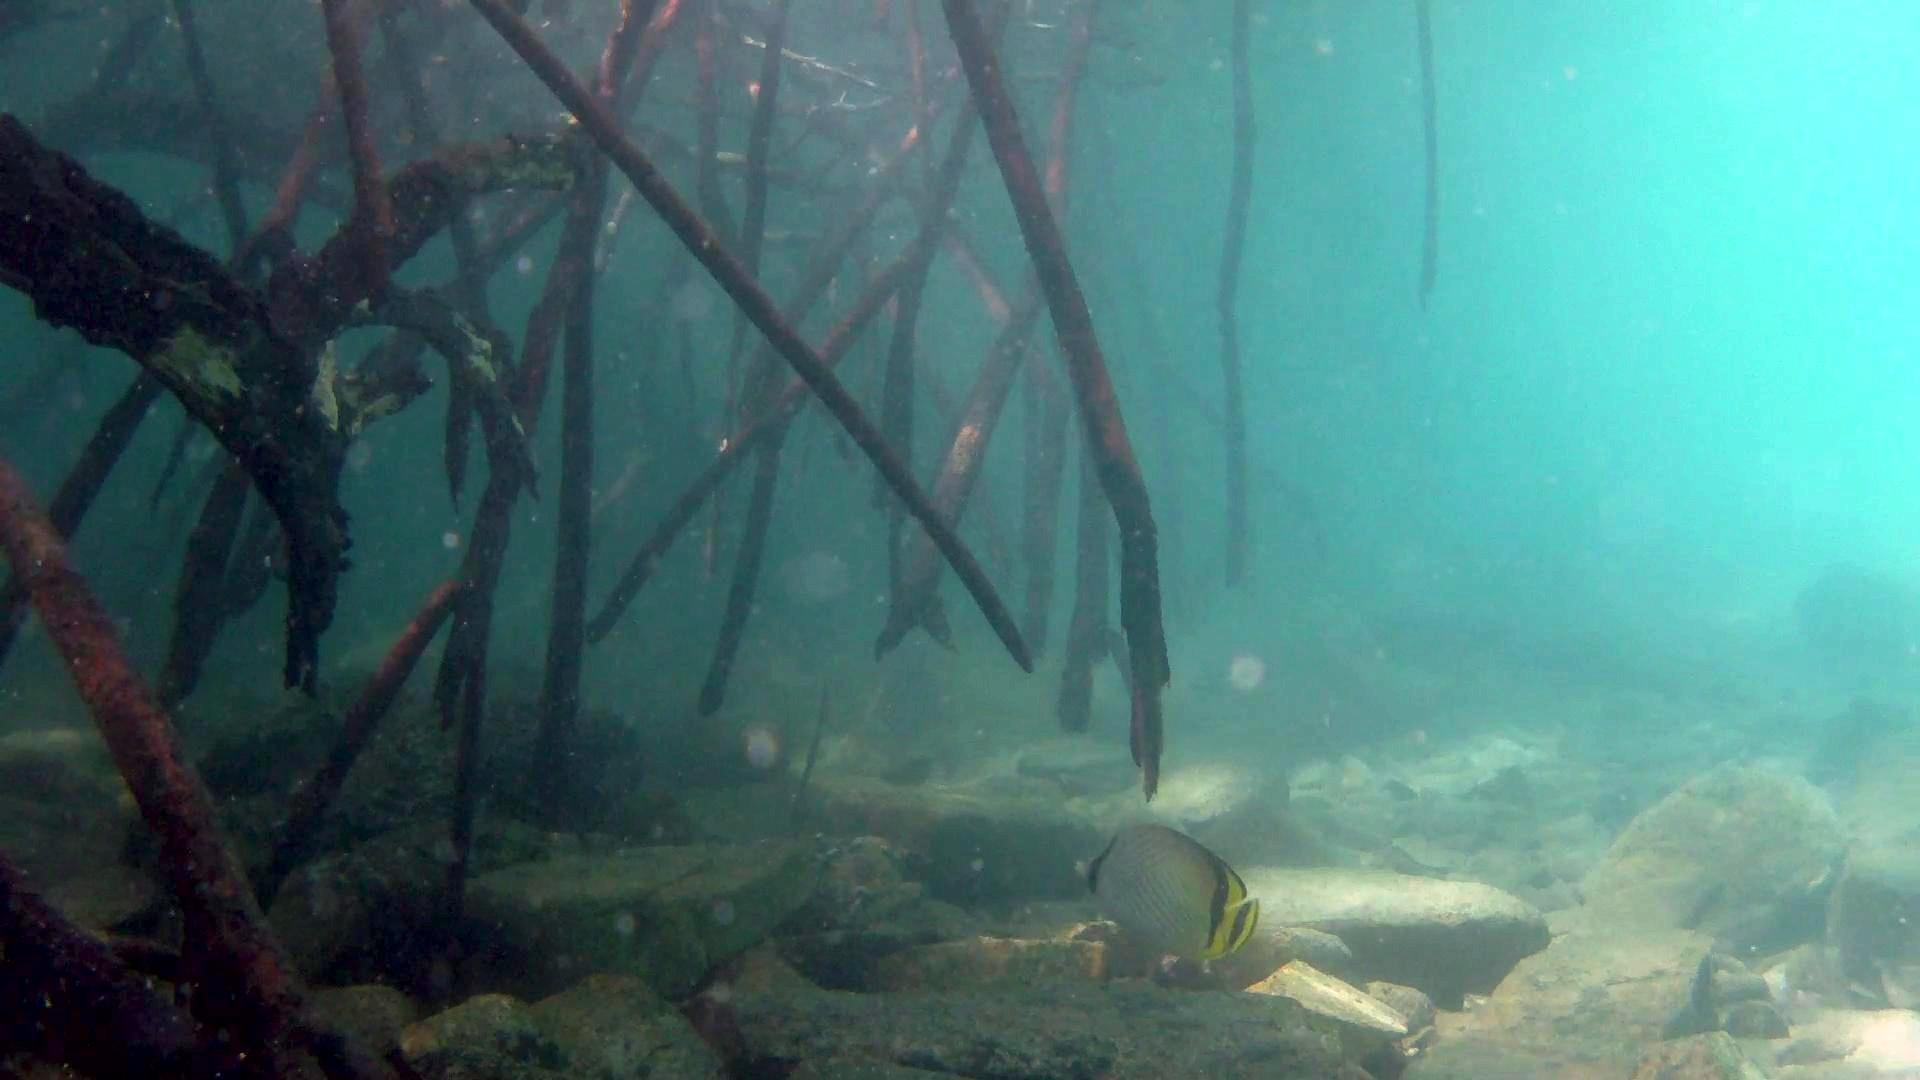chaetodon vagabundus: (1065, 822, 1267, 968)
